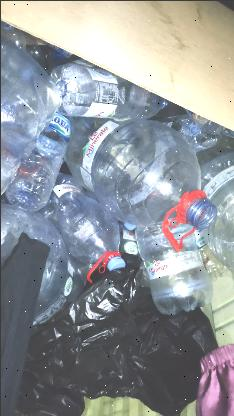Plastic Bottle: (60, 102, 213, 238), (0, 45, 70, 219), (126, 221, 216, 316)
